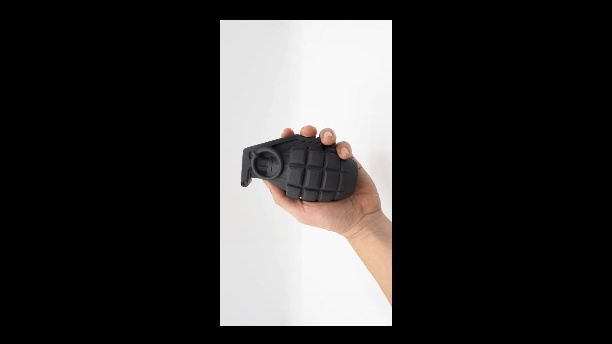e1: (229, 133, 361, 205)
